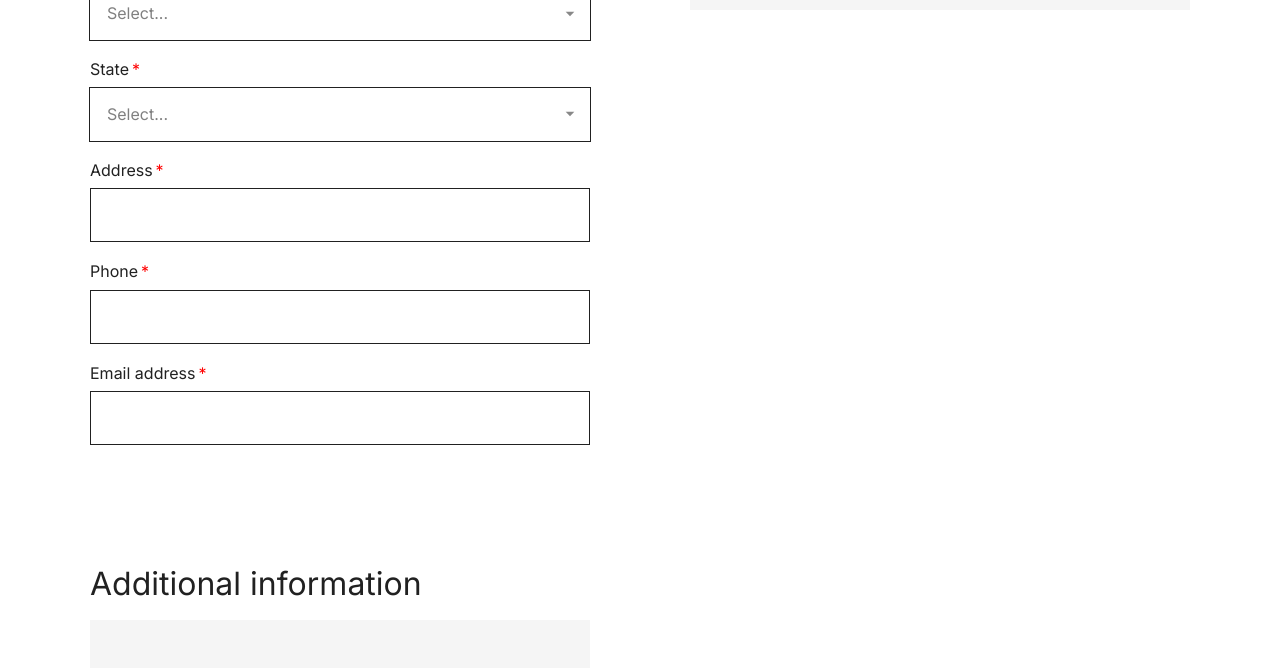
Test: Checkout › should display an error message if phone is not valid
(page scrolled)
Type "+0112223" into the field labelled "Phone*".
click(340, 317); type("+0112223")  # box [90, 290, 590, 344]
(page scrolled)
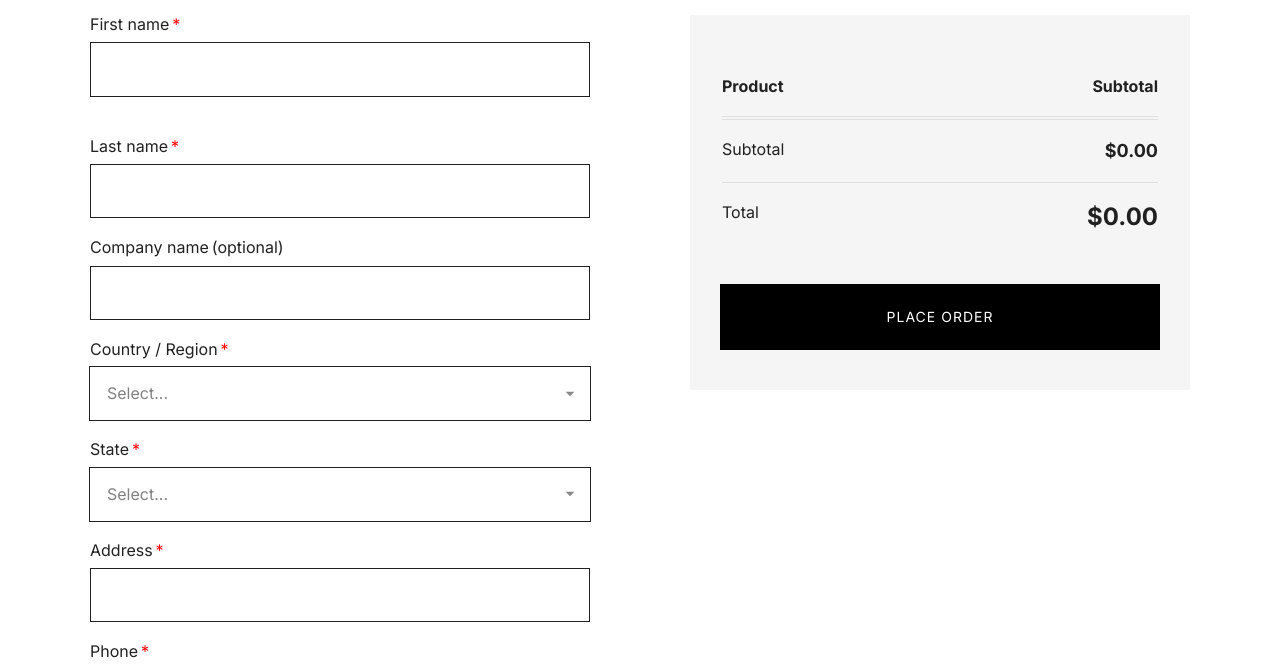
Click the button "PLACE ORDER".
click(940, 317)  # box [720, 284, 1160, 350]
(page scrolled)
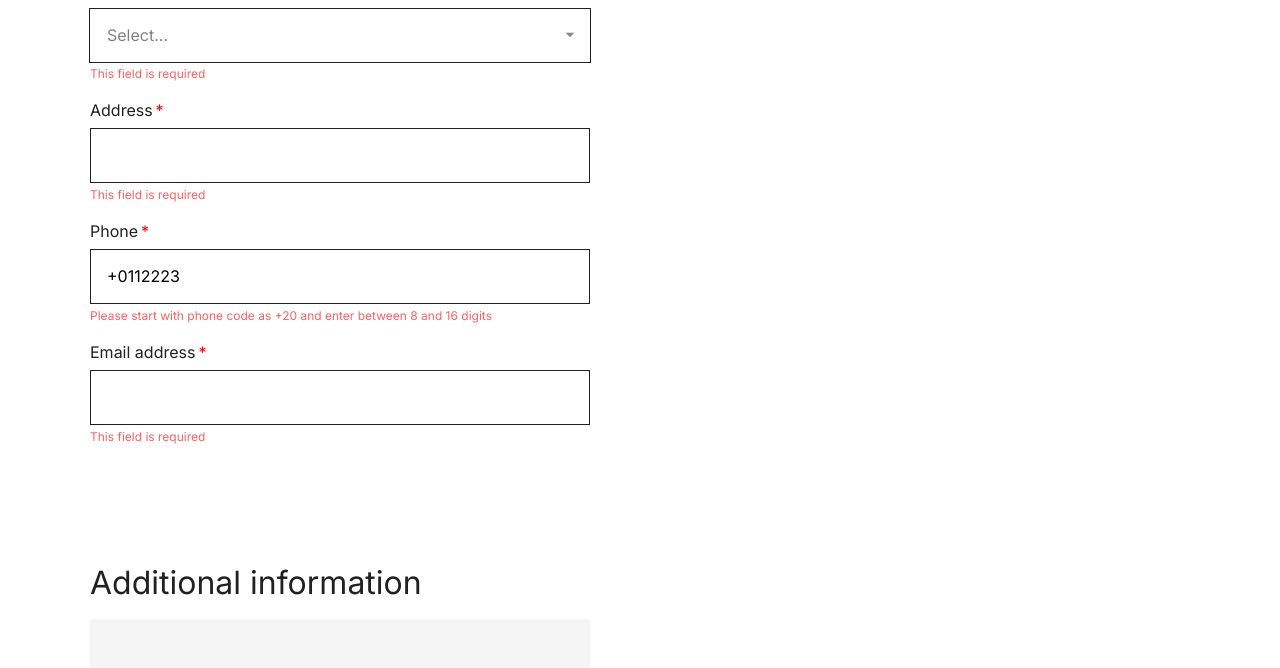
Now the text "Please start with phone code as +20 and enter between 8 and 16 digits" is shown, box [90, 308, 492, 323]
